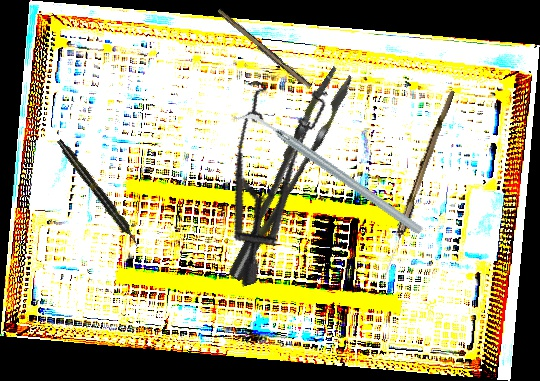Chopper: (234, 62, 425, 284)
Handpiece: (54, 136, 143, 250)
Scalpel Handle: (214, 8, 314, 91)
Speculum: (188, 63, 373, 287)
Surgical Spoon: (378, 88, 455, 288)
Tissue Forceps: (201, 64, 373, 282)
